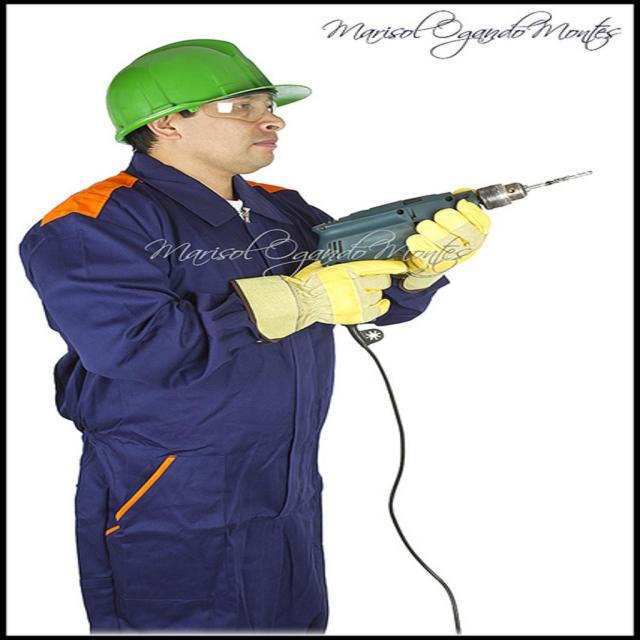Face: (164, 92, 305, 187)
